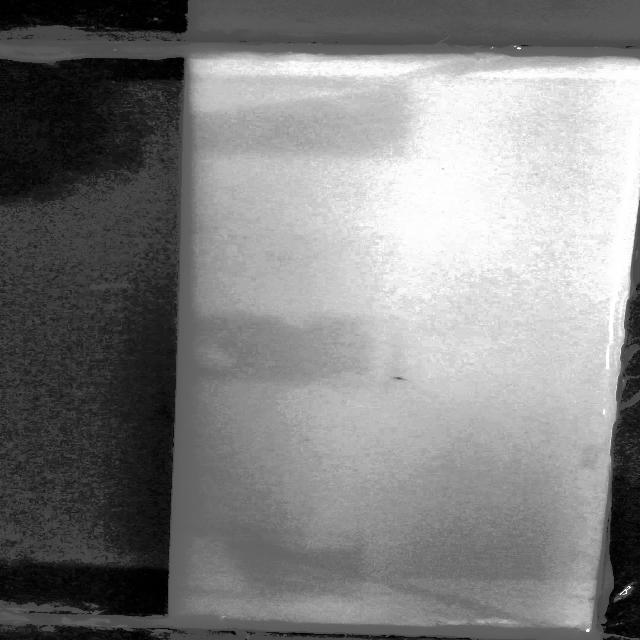shrimp: (386, 374, 420, 383)
